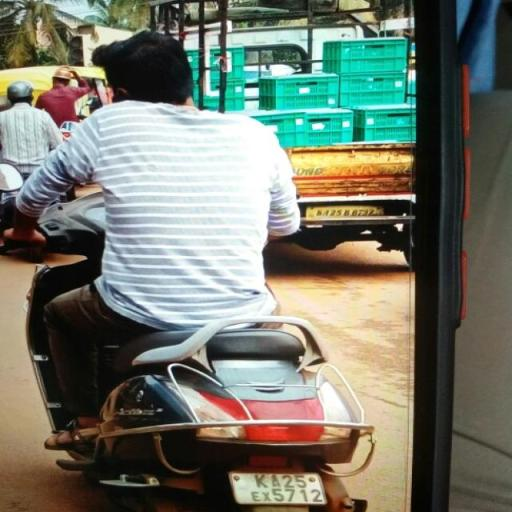bike: (8, 26, 394, 512)
numberplate: (230, 474, 326, 508)
using mobile: (102, 87, 134, 106)
withouthelmet: (92, 30, 194, 104)
